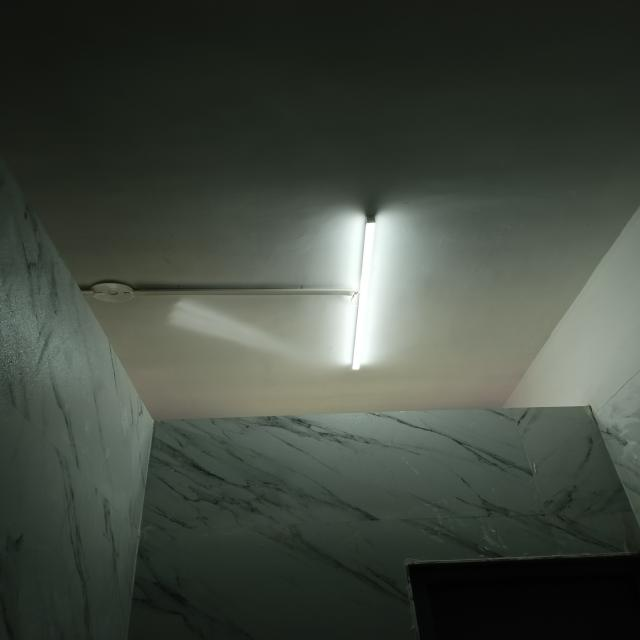light_on: (345, 210, 385, 374)
